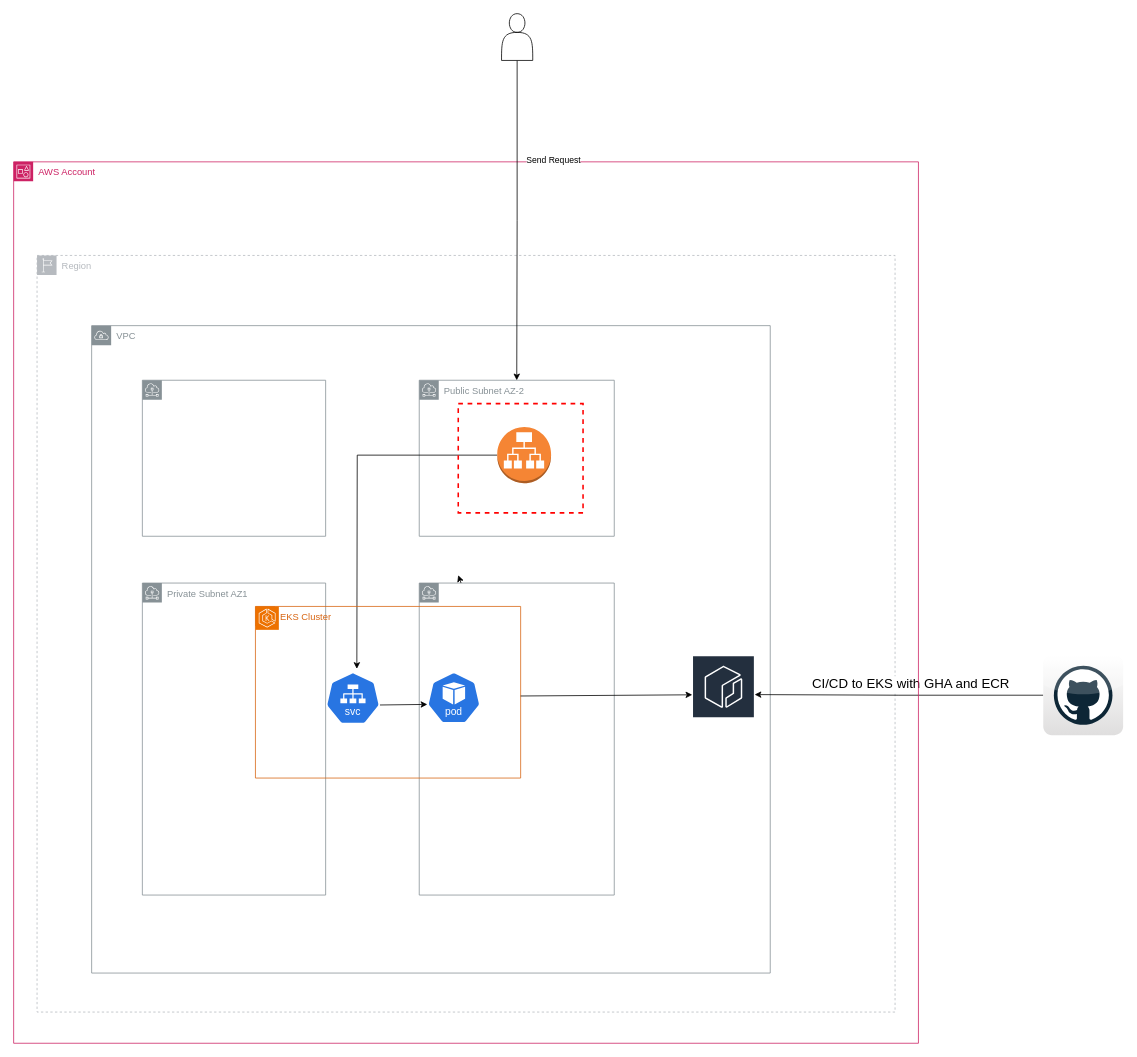
This 1137x1057 diagram has some shape labels left out. Each missing label, with the centre of its shape:
"Amazon ECR" belongs at point (723, 694).
"Private Subnet AZ-2" belongs at point (516, 738).
"Public Subnet AZ-1" belongs at point (234, 457).
